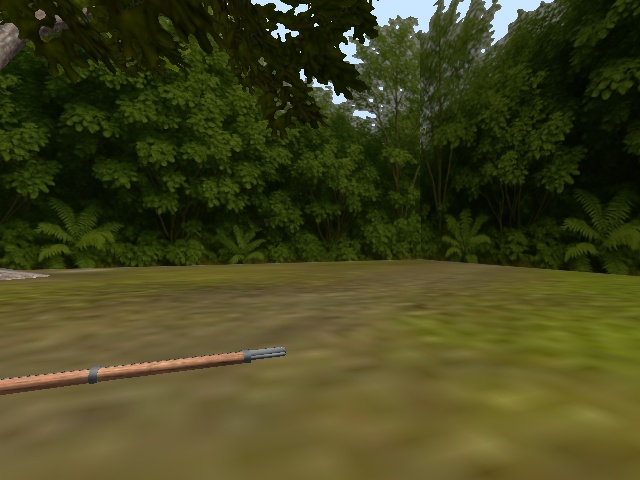rifle: (0, 343, 287, 400)
